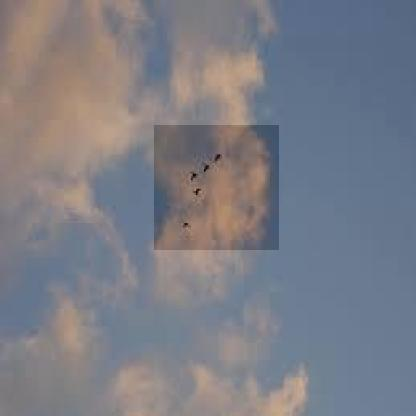bird: (154, 125, 279, 250)
